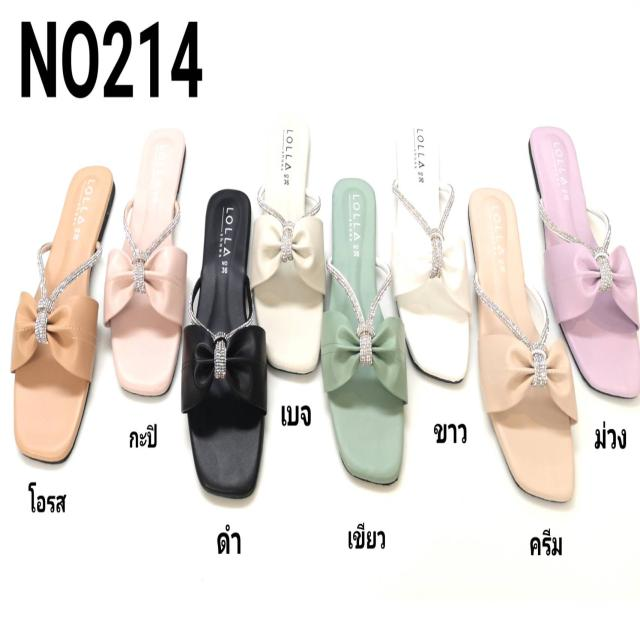bej: (253, 98, 322, 389)
black: (187, 182, 265, 505)
cream: (460, 172, 587, 544)
green: (319, 174, 404, 494)
kapi: (104, 88, 192, 403)
orot: (3, 129, 111, 464)
purple: (514, 107, 638, 400)
white: (397, 92, 472, 376)
